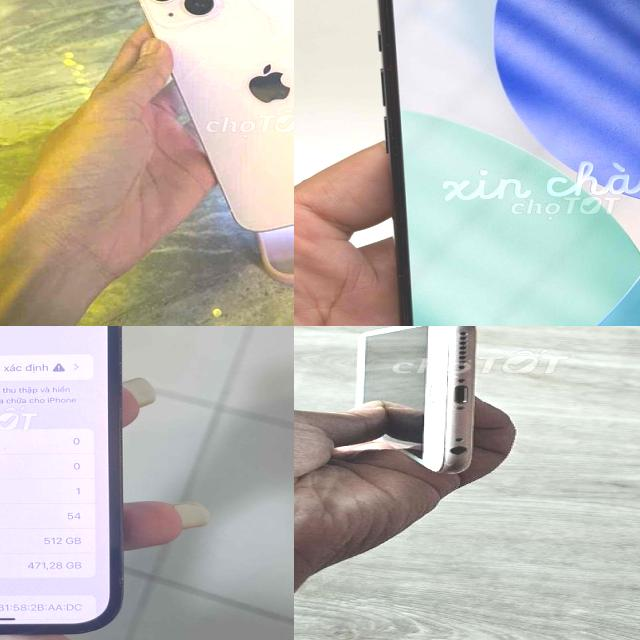gen_12_13: (0, 326, 131, 635), (136, 0, 294, 229)
gen_15: (359, 0, 640, 326)
gen_6: (357, 326, 479, 474)
physical_damage: (220, 196, 284, 230), (224, 109, 294, 139), (240, 160, 288, 192), (223, 0, 289, 23), (205, 80, 253, 108), (233, 134, 286, 158), (192, 56, 244, 78), (213, 28, 254, 52), (260, 26, 294, 53), (277, 187, 294, 227), (175, 74, 200, 95), (279, 56, 294, 81)
scratch: (429, 452, 463, 471)
